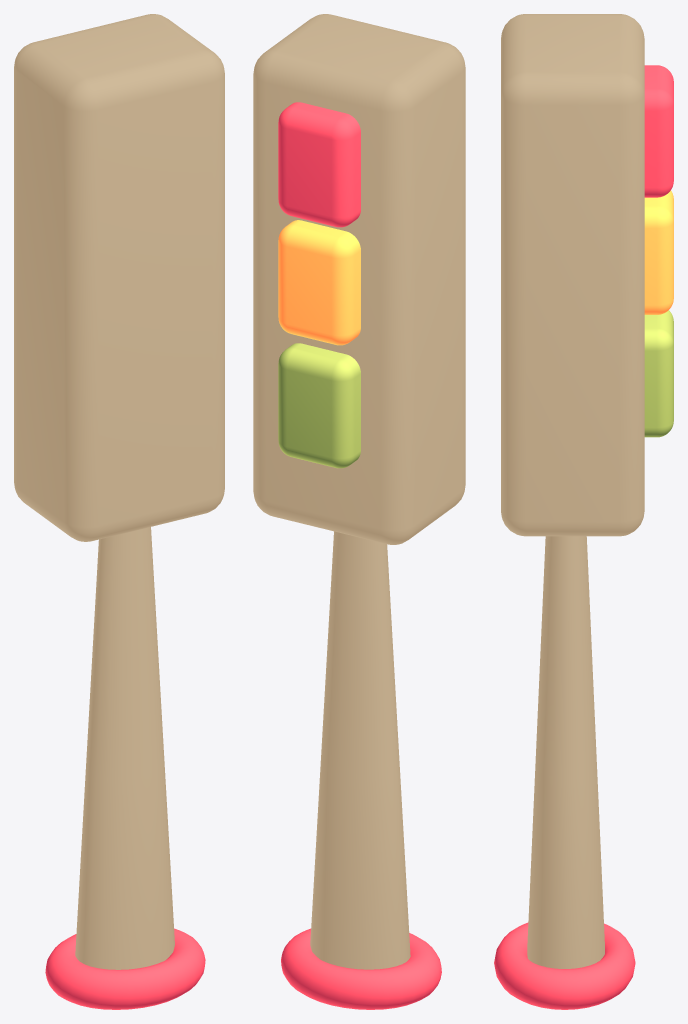
Rendered from Trafficlight.fbx.
3 renders of one model, left to right at view 1: azimuth 30°, elevation 25°; view 2: azimuth 150°, elevation 25°; view 3: azimuth 270°, elevation 25°, orthographic.
Visible parts, largest first — view 1: Cube, Cone, Torus; view 2: Cube, Cone, Cube_3, Cube_1, Cube_2, Torus; view 3: Cube, Cone, Torus, Cube_1, Cube_3, Cube_2.
Boxes of the visible parts, x1,y1,x2,y2 form: Cube: [14, 14, 224, 541]; Cone: [75, 527, 174, 969]; Torus: [45, 928, 205, 1009]; Cube: [253, 14, 465, 544]; Cone: [310, 531, 410, 969]; Cube_3: [278, 343, 360, 468]; Cube_1: [278, 102, 360, 227]; Cube_2: [278, 220, 360, 345]; Torus: [281, 928, 441, 1009]; Cube: [501, 14, 644, 536]; Cone: [527, 536, 604, 968]; Torus: [494, 922, 635, 1009]; Cube_1: [644, 65, 673, 197]; Cube_3: [644, 310, 673, 437]; Cube_2: [644, 190, 673, 314].
Size of the model in its own units: 855 by 4853 by 845.
